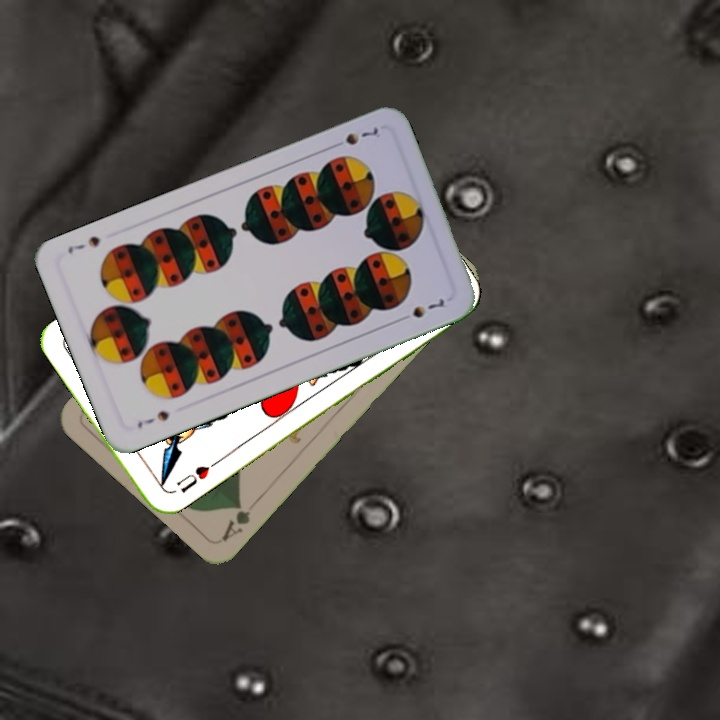GA: (217, 499, 253, 544)
HU: (172, 461, 212, 496)
S7: (327, 123, 381, 151), (133, 406, 172, 432)
